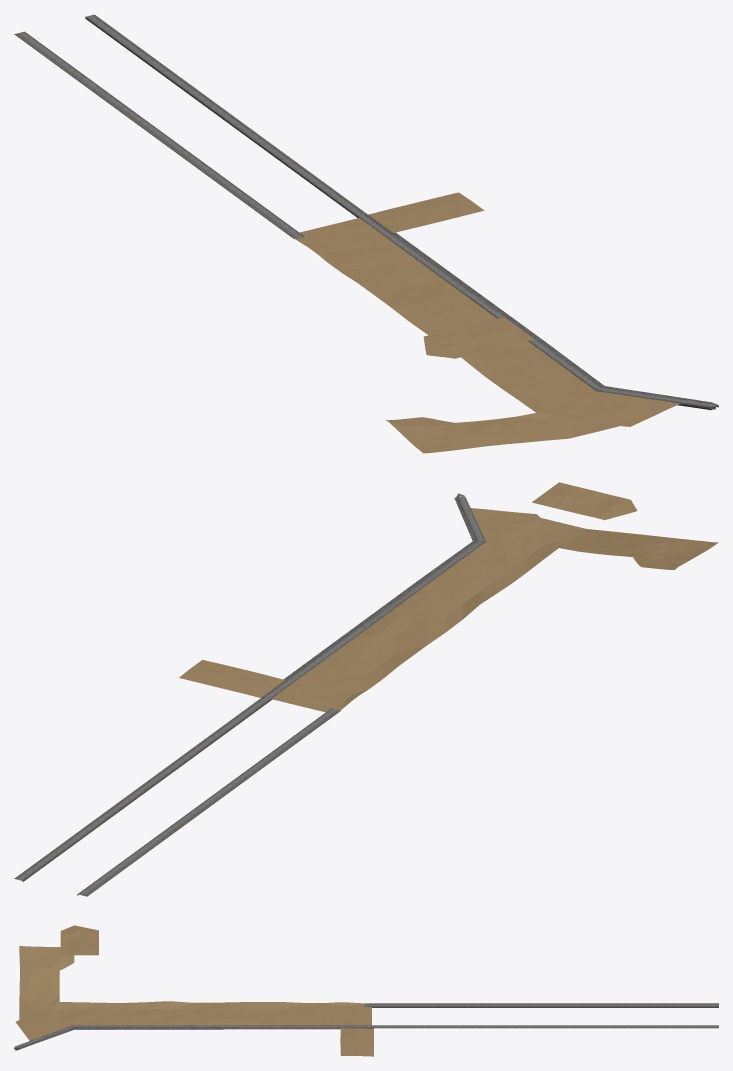
The model's file is SM_ENV_KNVLLG_ground_02.mo.fbx.
3 views of the same model, one above another, from view 1: azimuth 30°, elevation 25°; view 2: azimuth 150°, elevation 25°; view 3: azimuth 270°, elevation 25° (orthographic). The views are drawn at different scales.
Visible parts, largest first — view 1: SM_ENV_KNVLLG_ground_02.mo; view 2: SM_ENV_KNVLLG_ground_02.mo; view 3: SM_ENV_KNVLLG_ground_02.mo.
Boxes of the visible parts, <box> form: SM_ENV_KNVLLG_ground_02.mo: <box>14,14,718,453</box>; SM_ENV_KNVLLG_ground_02.mo: <box>14,482,718,896</box>; SM_ENV_KNVLLG_ground_02.mo: <box>14,925,718,1056</box>.
Size of the model in its own units: 61.08 by 14.92 by 187.
